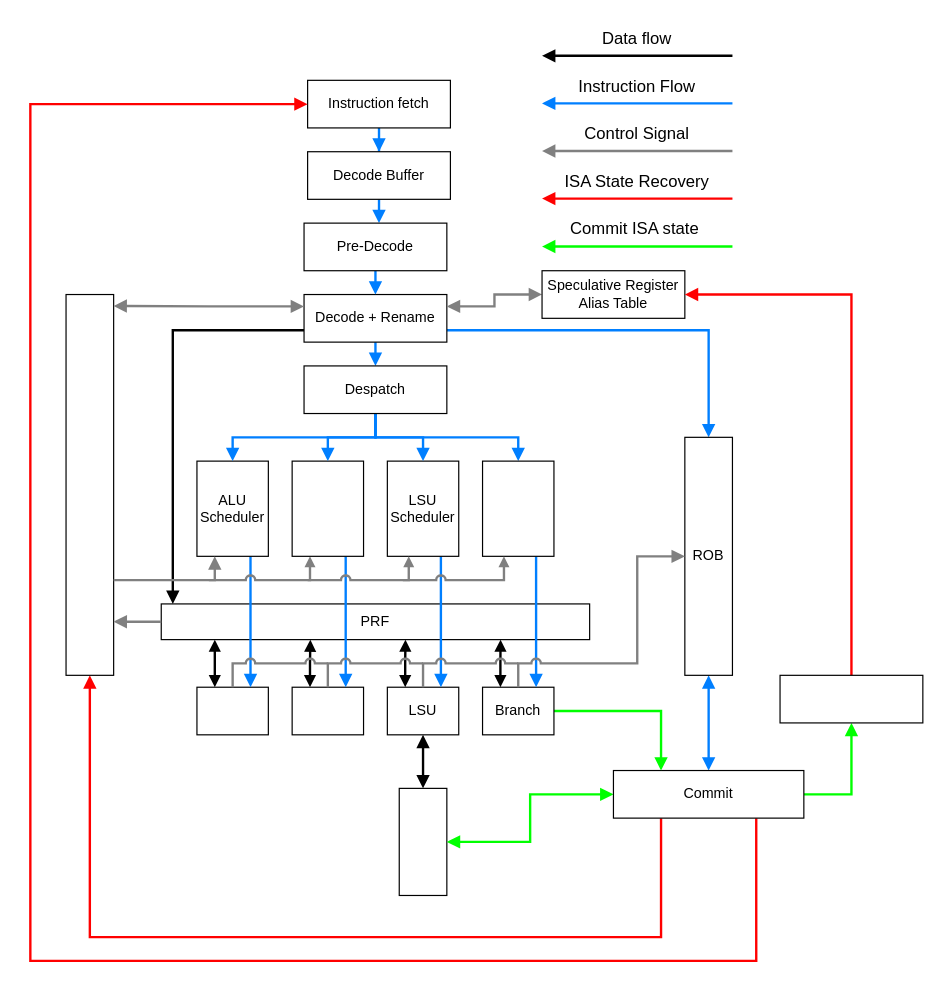
Image size: 944x992. Some labels were removed from this diagram. The shapes that lost their labels are listed below. From the top down, each one's centre as x and y in pixels, then its label:
the point at 89,484: Score Board
the point at 327,508: AGU Scheduler
the point at 517,508: Branch Scheduler
the point at 232,710: ALU
the point at 327,710: AGU
the point at 851,698: Commited Register Alias Table
the point at 422,841: Load Store Queue
